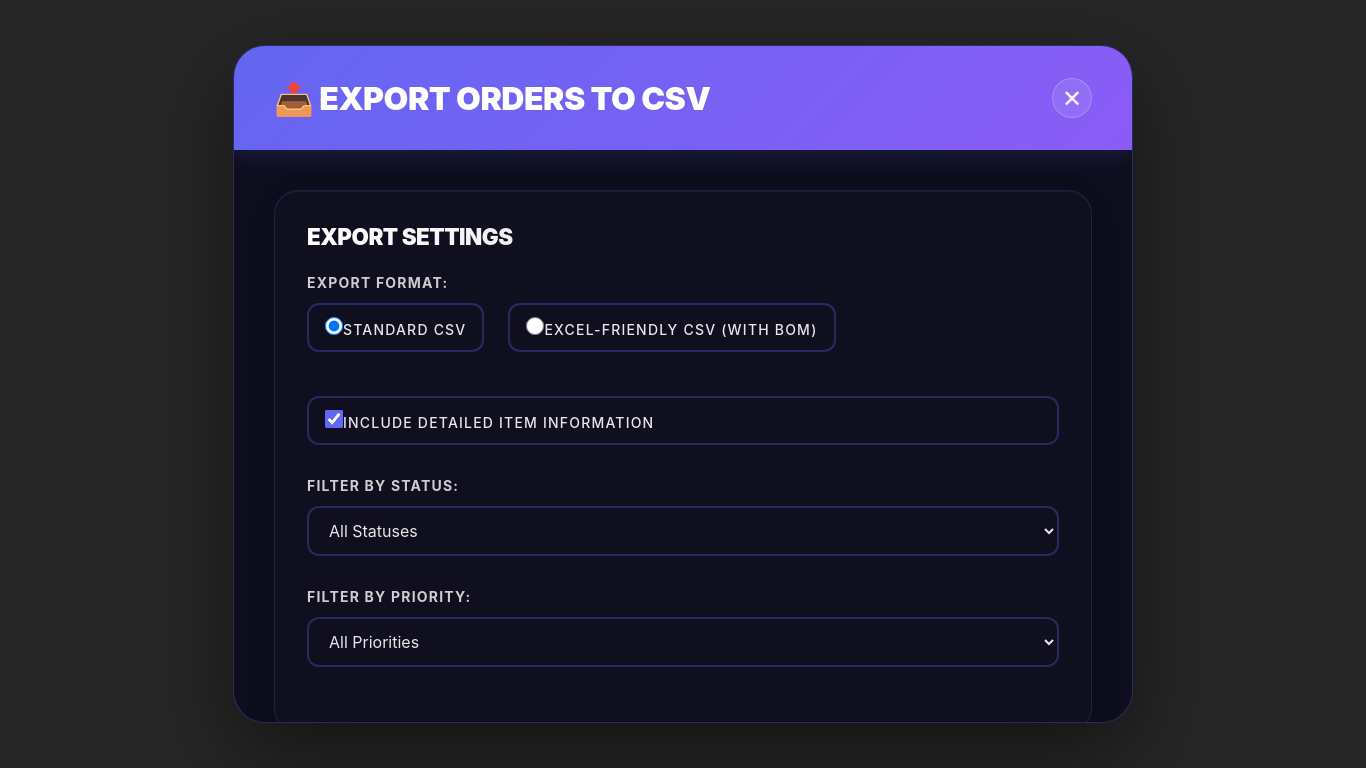
CSVExport › filters orders by priority
# Filter to show only high priority
Select "High" in the dropdown labelled "Filter by Priority:" at (683, 642), box [307,617,1059,667]
(page scrolled)
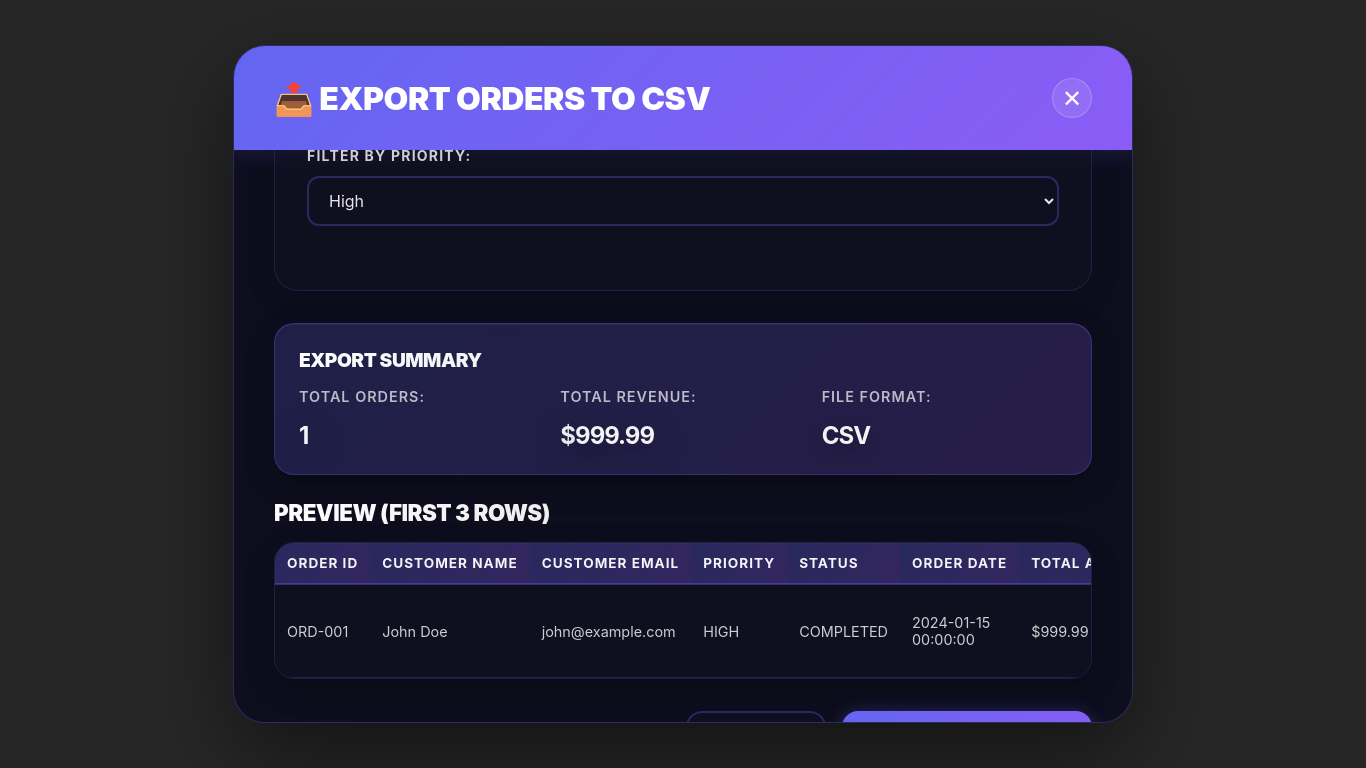
Expected: the text "1" is shown, [299,421,308,450]
